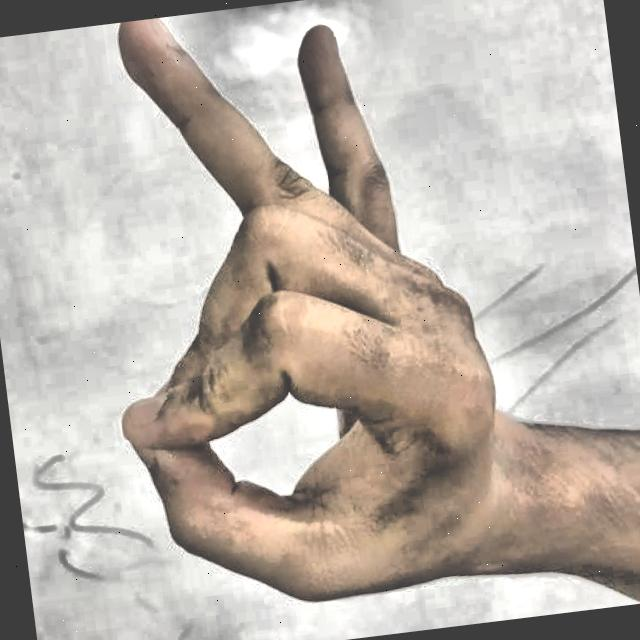Na: (11, 0, 544, 640)
